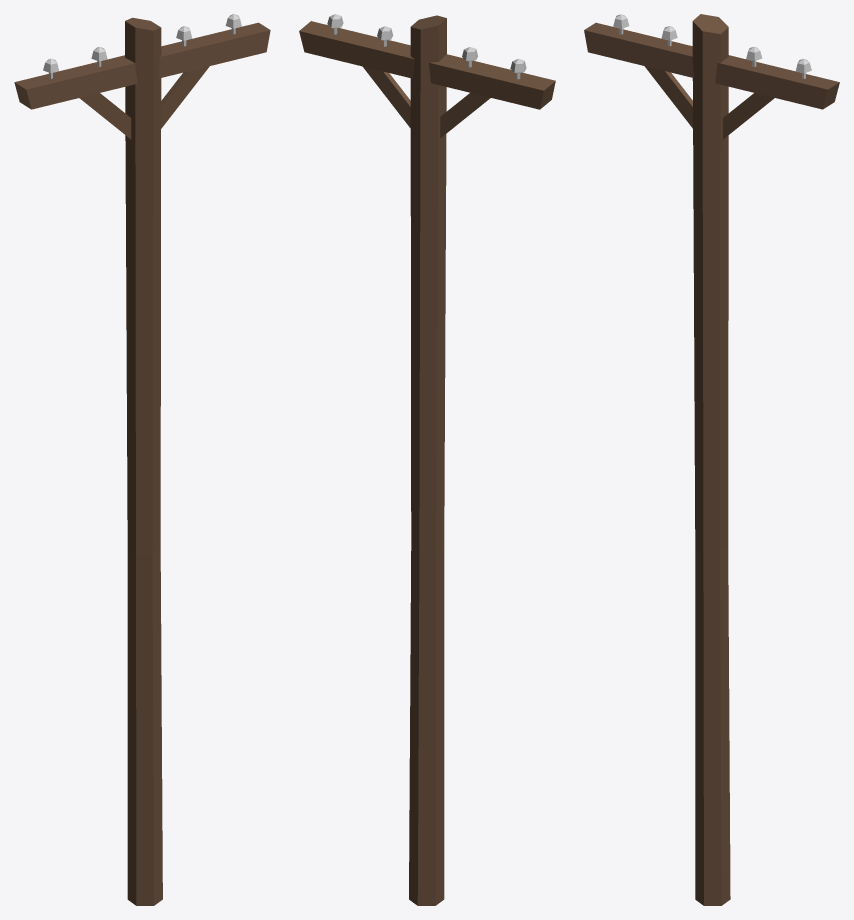
Rendered from pole-electric.fbx.
3 renders of one model, left to right at view 1: azimuth 30°, elevation 25°; view 2: azimuth 150°, elevation 25°; view 3: azimuth 330°, elevation 25°, orthographic.
Visible parts, largest first — view 1: pole-electric; view 2: pole-electric; view 3: pole-electric.
Part boxes in pixels (x1,y1,x2,y2): pole-electric: (14, 14, 270, 905); pole-electric: (299, 14, 555, 905); pole-electric: (584, 14, 839, 905).
Bounding box in the file's own units: 2.43 × 8.35 × 0.3206.
